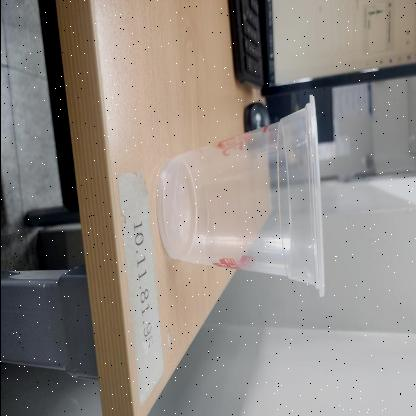Others: (156, 94, 324, 300)
